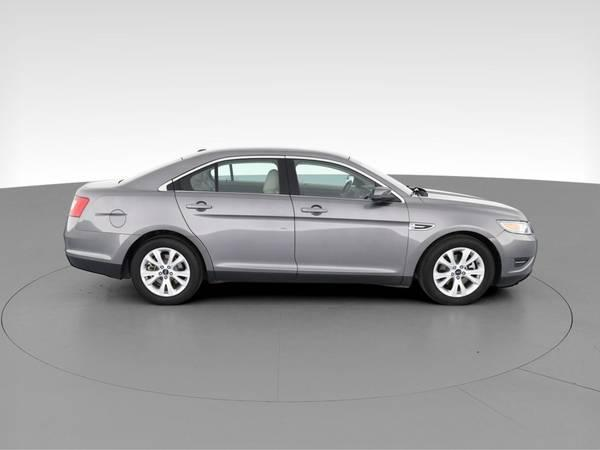Front_Bumper: (490, 231, 537, 288)
Front_Fender: (402, 199, 525, 288)
Front_Right_Door: (291, 193, 410, 286)
Front_Right_Window: (288, 157, 408, 203)
Hood: (423, 187, 529, 221)
Rear_Bumper: (64, 216, 144, 279)
Rear_Fender: (75, 181, 187, 234)
Rear_Right_Door: (174, 190, 297, 282)
Rear_Right_Window: (174, 157, 290, 195)
Right_Headlight: (499, 221, 539, 237)
Right_Taillight: (68, 195, 88, 219)
Roof: (113, 146, 413, 200)
Wheel: (420, 236, 494, 307), (129, 234, 201, 306)
